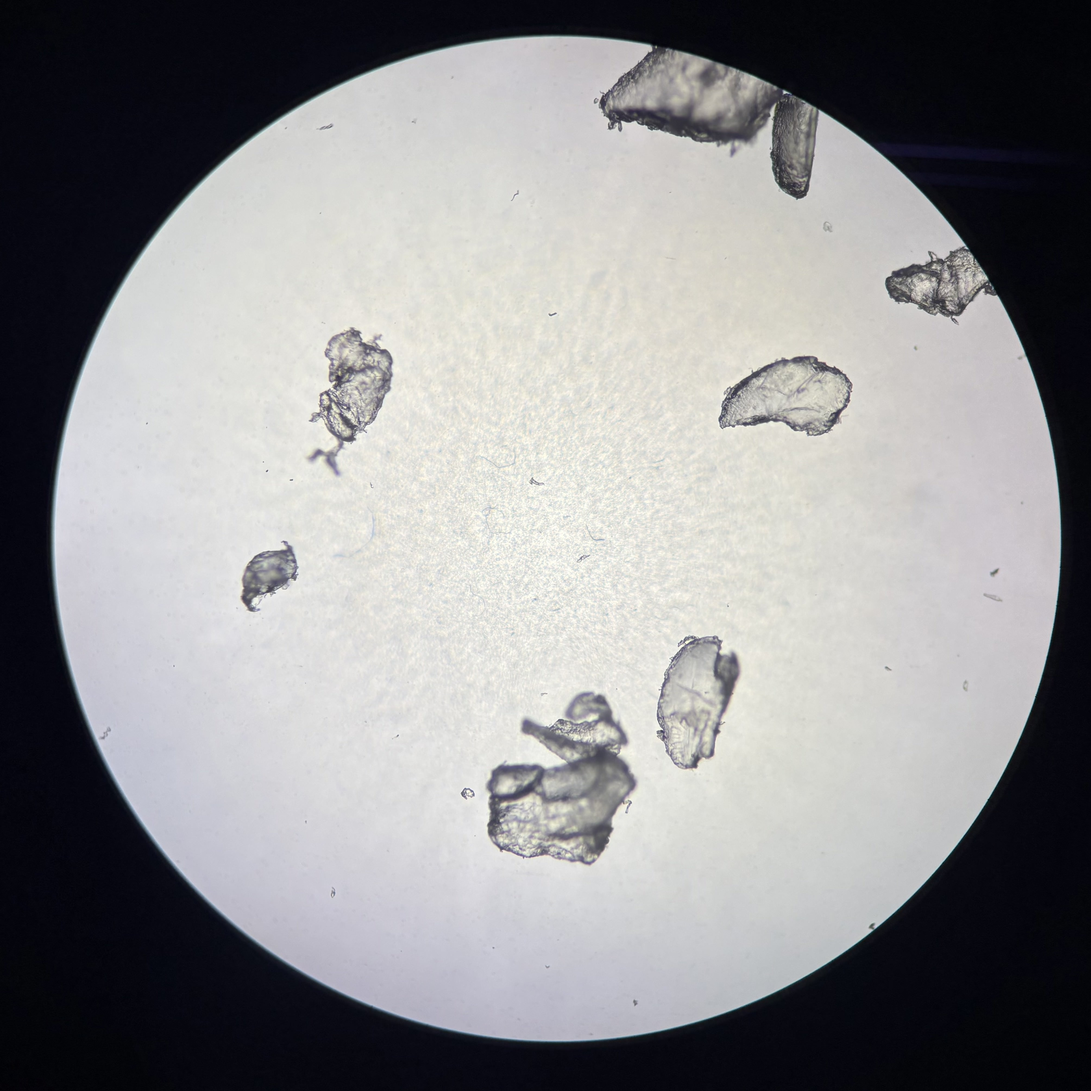microplastic: (483, 691, 637, 867), (593, 37, 784, 159), (308, 328, 393, 476), (655, 634, 741, 769), (718, 354, 853, 437), (884, 246, 1005, 325), (769, 92, 820, 202), (240, 540, 299, 612), (460, 787, 476, 800)
